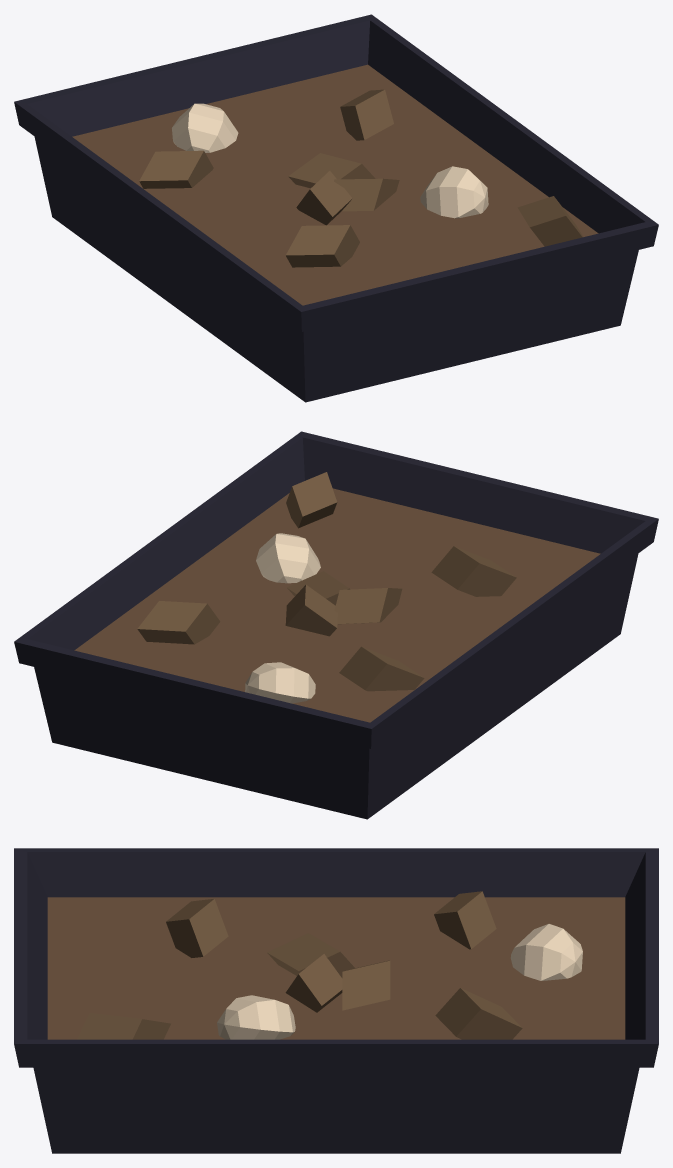
The model's file is Adobo.fbx.
3 views of the same model, one above another, from view 1: azimuth 30°, elevation 25°; view 2: azimuth 150°, elevation 25°; view 3: azimuth 270°, elevation 25° (orthographic). The views are drawn at different scales.
Parts seen in each view (by area): view 1: Adobo; view 2: Adobo; view 3: Adobo.
Part boxes in pixels (x1,y1,x2,y2): Adobo: [14, 14, 658, 402]; Adobo: [14, 431, 658, 819]; Adobo: [14, 848, 658, 1153].
Bounding box in the file's own units: 95.05 × 132 × 27.51.
